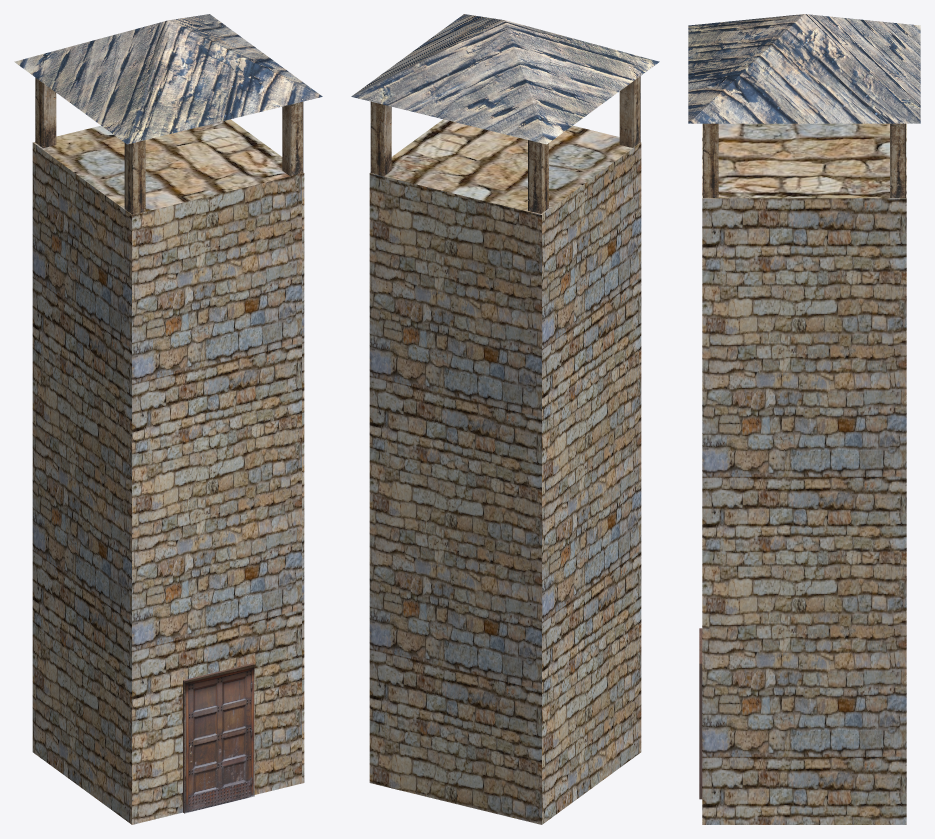
File: Watchtower.fbx
The picture shows the model from 3 angles, left to right: view 1: azimuth 30°, elevation 25°; view 2: azimuth 150°, elevation 25°; view 3: azimuth 270°, elevation 25°; orthographic projection. The views are drawn at different scales.
Visible parts, largest first — view 1: Watchtower; view 2: Watchtower; view 3: Watchtower.
Boxes of the visible parts, <box> form: Watchtower: <box>14,14,322,824</box>; Watchtower: <box>351,14,659,824</box>; Watchtower: <box>688,14,920,824</box>.
Bounding box in the file's own units: 731 × 2665 × 731.
